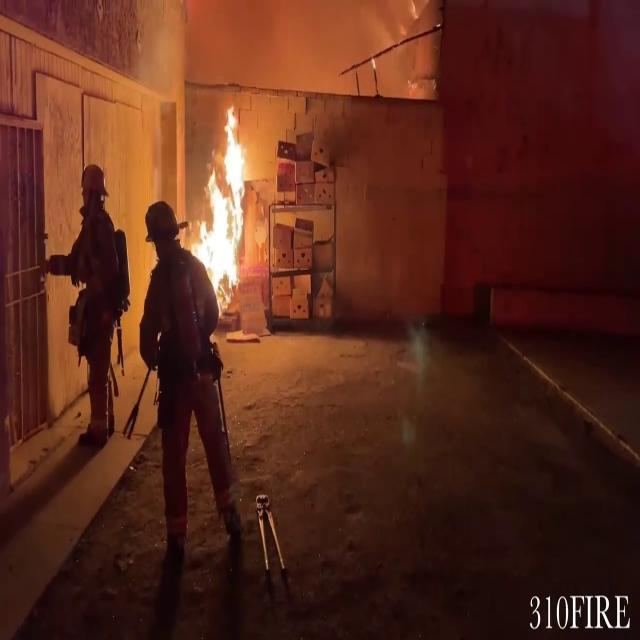Fire: (194, 102, 253, 299)
